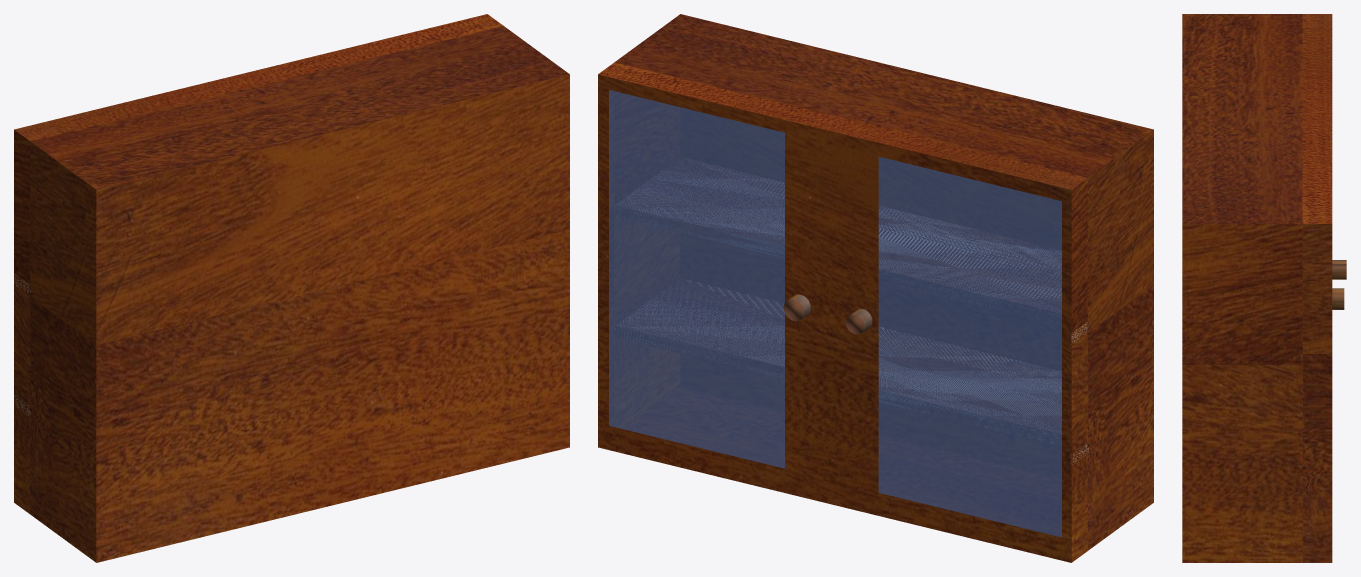
The picture shows the model from 3 angles, left to right: view 1: azimuth 30°, elevation 25°; view 2: azimuth 150°, elevation 25°; view 3: azimuth 270°, elevation 25°; orthographic projection. The views are drawn at different scales.
Parts seen in each view (by area): view 1: mesh1_mesh1-geometry; view 2: mesh1_mesh1-geometry; view 3: mesh1_mesh1-geometry.
Boxes of the visible parts, left/top/right/bottom form: mesh1_mesh1-geometry: left=14, top=14, right=569, bottom=562; mesh1_mesh1-geometry: left=598, top=14, right=1153, bottom=562; mesh1_mesh1-geometry: left=1182, top=14, right=1346, bottom=562.
Size of the model in its own units: 0.7724 by 0.5816 by 0.2552.
